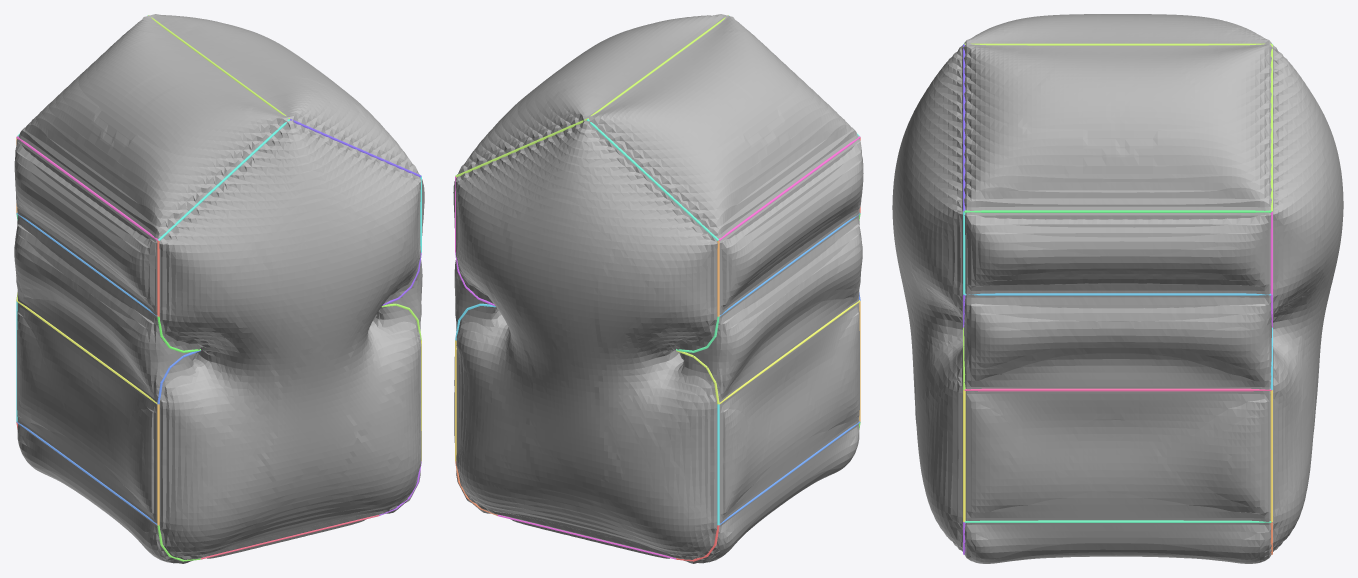
File: onshape_house.gltf
3 renders of one model, left to right at view 1: azimuth 30°, elevation 25°; view 2: azimuth 150°, elevation 25°; view 3: azimuth 270°, elevation 25°, orthographic. The views are drawn at different scales.
Bounding box in the file's own units: 0.5487 × 0.7786 × 0.6688.
